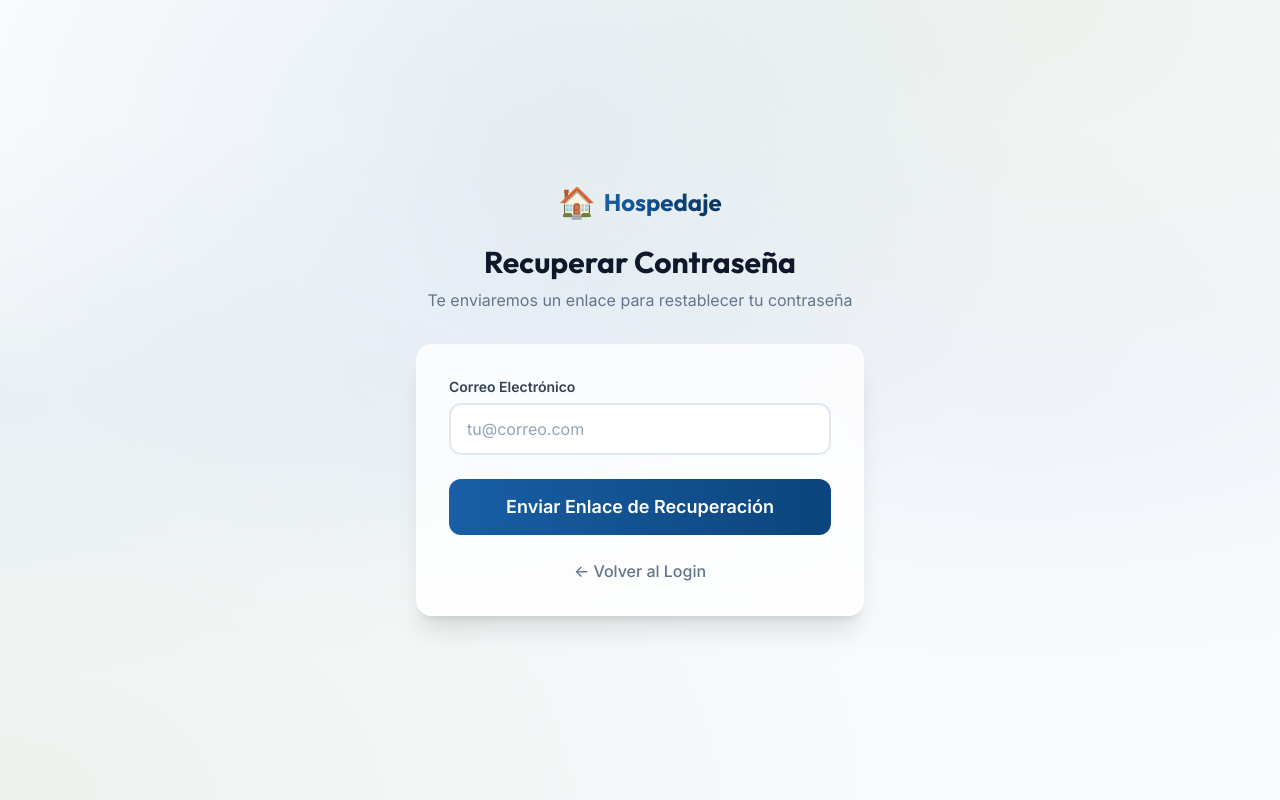
Scenario: Página de Recuperación de Contraseña › valida email vacío
The image size is (1280, 800).
Click the button "Enviar Enlace de Recuperación": (640, 507) [449, 479, 831, 535]
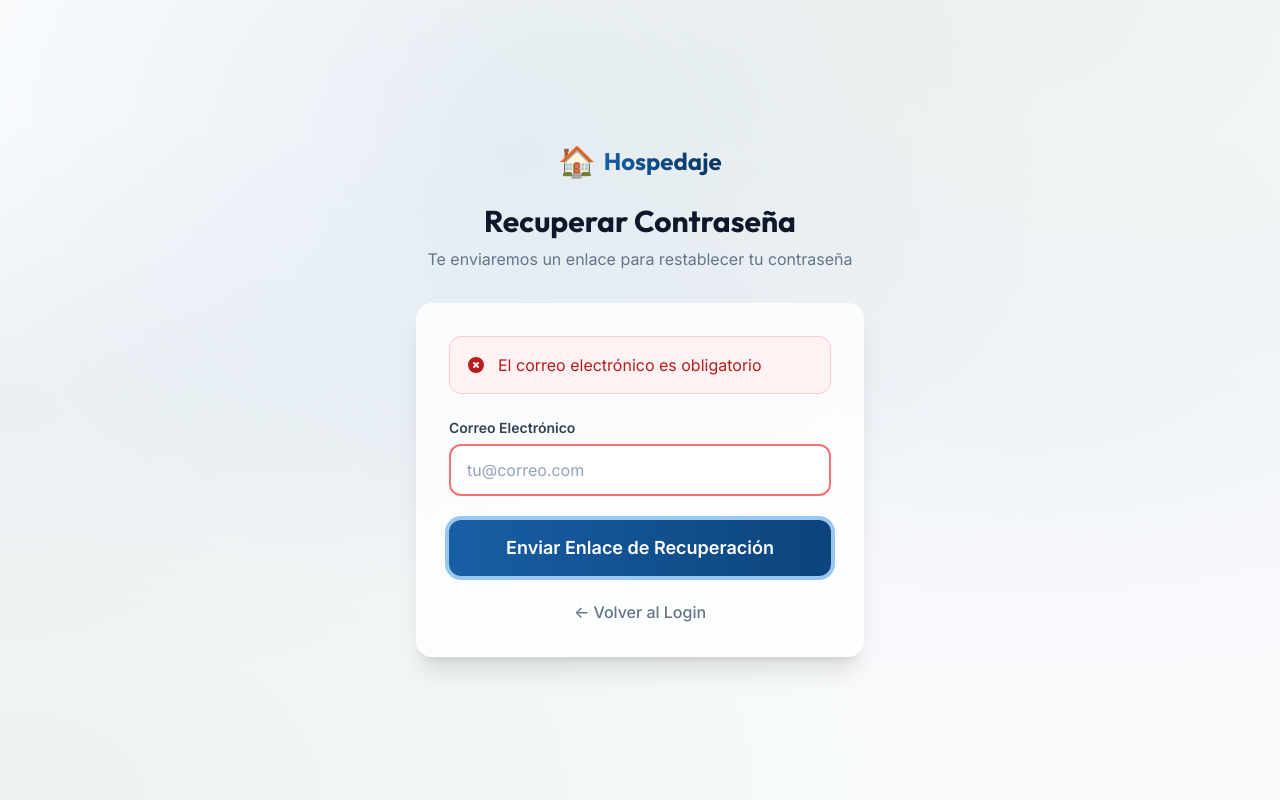
Now the text "El correo electrónico es obligatorio" is shown, box [498, 353, 762, 377]
